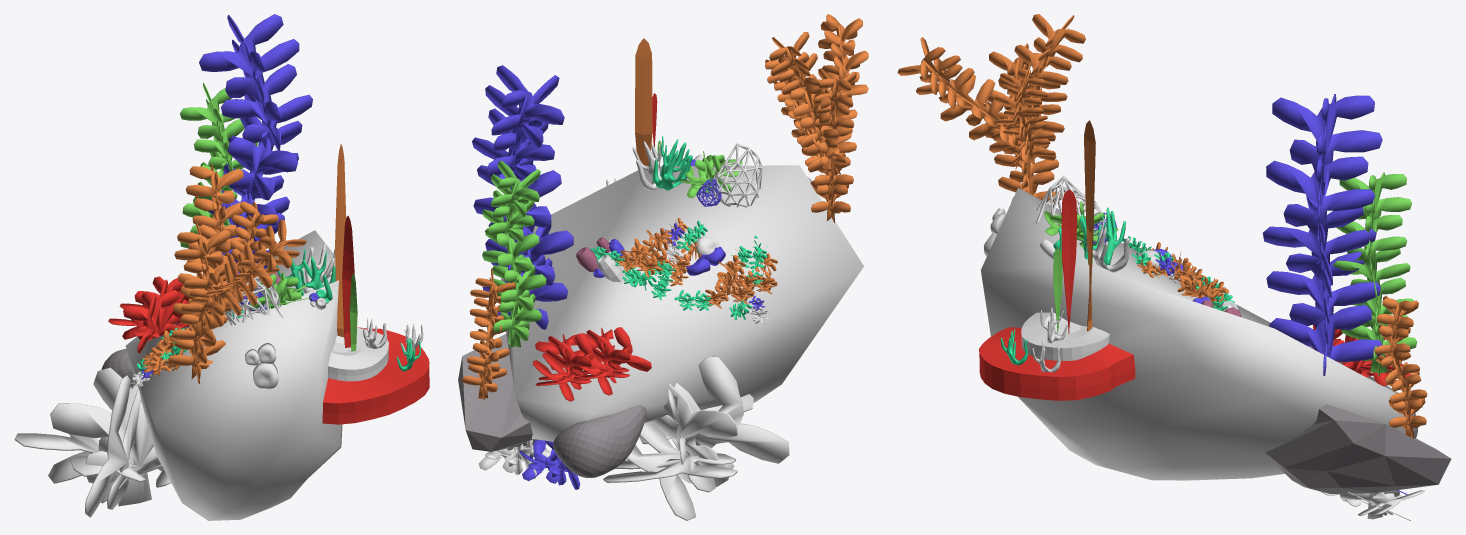
Rendered from Recife 1.fbx.
3 renders of one model, left to right at view 1: azimuth 30°, elevation 25°; view 2: azimuth 150°, elevation 25°; view 3: azimuth 270°, elevation 25°, orthographic. The views are drawn at different scales.
Parts seen in each view (by area): view 1: Rocha Grande, Plane.014_Plane.000, Plane.011, Cylinder.000, Plane.009_Plane.088, Plane.009_Plane.000, Plane.009_Plane.001, Plane.014_Plane.089, Plane.021, Cylinder.005, Plane.009_Plane.002, Plane.000_Plane.003 (+9 smaller); view 2: Rocha Grande, Plane.011, Plane.014_Plane.000, Plane.014_Plane.089, Rocha média, Rocha redonda, Plane.009_Plane.001, Plane.009_Plane.088, Plane.014_Plane.001, Plane.009_Plane.000, Plane.022, Plane.021 (+10 smaller); view 3: Rocha Grande, Plane.014_Plane.000, Rocha média, Cylinder.000, Plane.014_Plane.089, Plane.009_Plane.000, Plane.014_Plane.001, Plane.009_Plane.001, Plane.009_Plane.002, Plane.009_Plane.088, Cylinder.005, Plane.003_Plane.005 (+6 smaller).
Boxes of the visible parts, x1,y1,x2,y2 form: Rocha Grande: (125, 230, 342, 520); Plane.014_Plane.000: (199, 14, 312, 283); Plane.011: (14, 367, 170, 517); Cylinder.000: (322, 327, 429, 424); Plane.009_Plane.088: (168, 221, 236, 383); Plane.009_Plane.000: (191, 219, 306, 326); Plane.009_Plane.001: (173, 164, 244, 336); Plane.014_Plane.089: (180, 82, 258, 269); Plane.021: (108, 290, 189, 353); Cylinder.005: (328, 327, 388, 381); Plane.009_Plane.002: (188, 201, 278, 311); Plane.000_Plane.003: (335, 144, 346, 337); Rocha Grande: (501, 165, 863, 441); Plane.011: (603, 356, 789, 520); Plane.014_Plane.000: (472, 65, 573, 329); Plane.014_Plane.089: (482, 160, 546, 347); Rocha média: (458, 334, 546, 451); Rocha redonda: (553, 405, 646, 477); Plane.009_Plane.001: (769, 32, 845, 175); Plane.009_Plane.088: (810, 68, 856, 222); Plane.014_Plane.001: (462, 268, 515, 400); Plane.009_Plane.000: (802, 14, 868, 171); Plane.022: (532, 333, 612, 401); Plane.021: (573, 327, 651, 395); Rocha Grande: (980, 187, 1404, 480); Plane.014_Plane.000: (1263, 94, 1382, 375); Rocha média: (1265, 404, 1451, 493); Cylinder.000: (979, 327, 1135, 400); Plane.014_Plane.089: (1333, 172, 1417, 375); Plane.009_Plane.000: (897, 37, 1043, 163); Plane.014_Plane.001: (1374, 295, 1427, 438); Plane.009_Plane.001: (1003, 14, 1085, 168); Plane.009_Plane.002: (995, 62, 1055, 168); Plane.009_Plane.088: (985, 43, 1061, 202); Cylinder.005: (1021, 312, 1109, 360); Plane.003_Plane.005: (1061, 189, 1076, 333).
Bounding box in the file's own units: 429 × 606 × 658.
